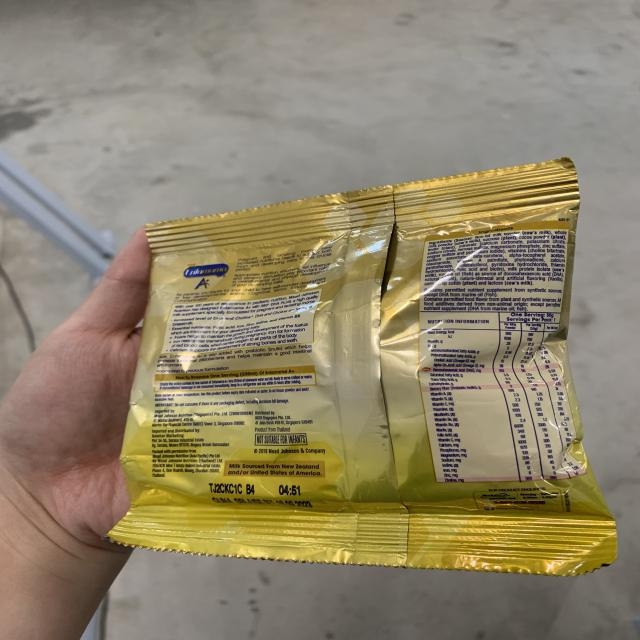object_name: (144, 215, 573, 550)
